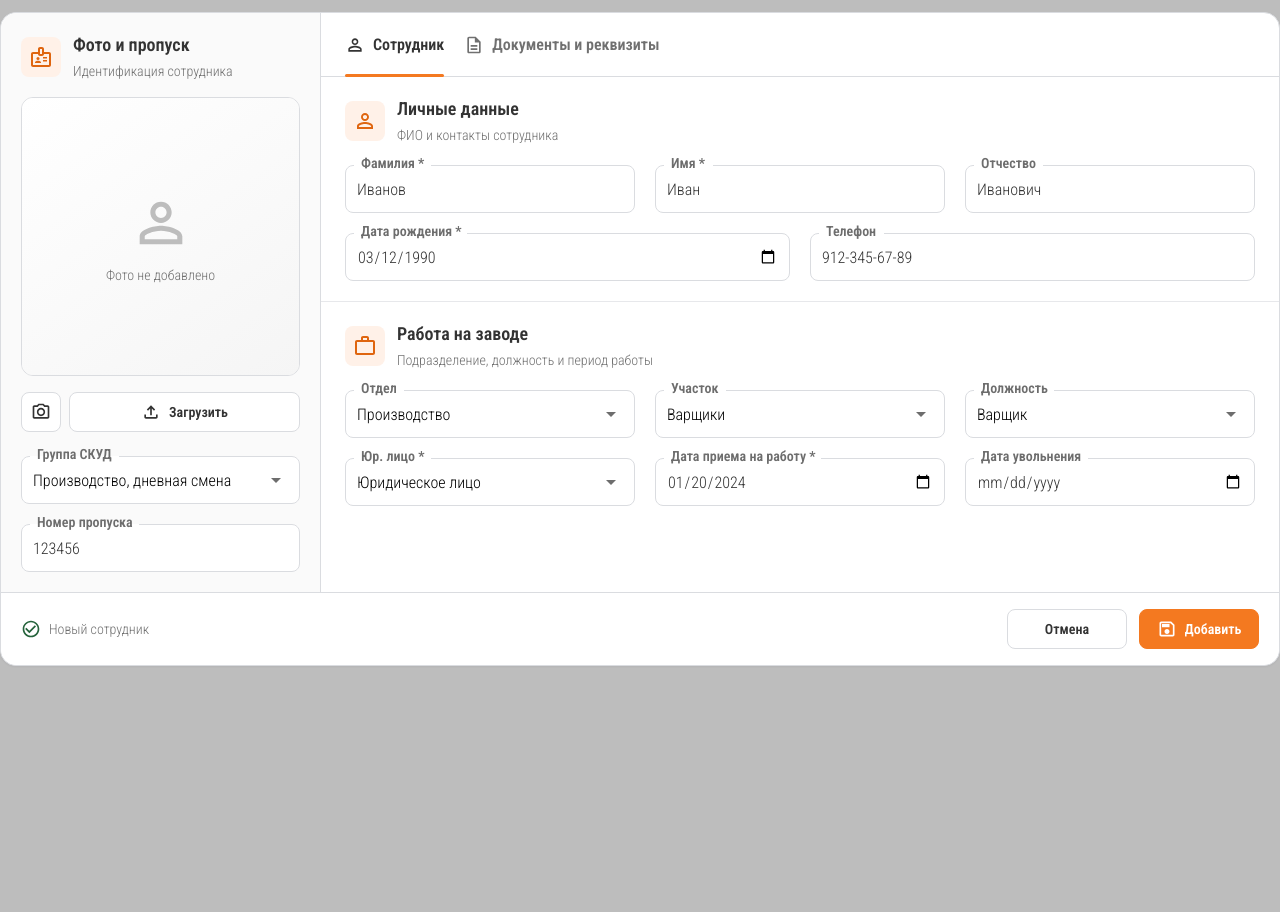
it: FactoryPersonEdit editor workflow › shows the bank choice when adding an employee
Click the tab "Документы и реквизиты" at x=562, y=44, box x1=464 y1=13 x2=660 y2=76
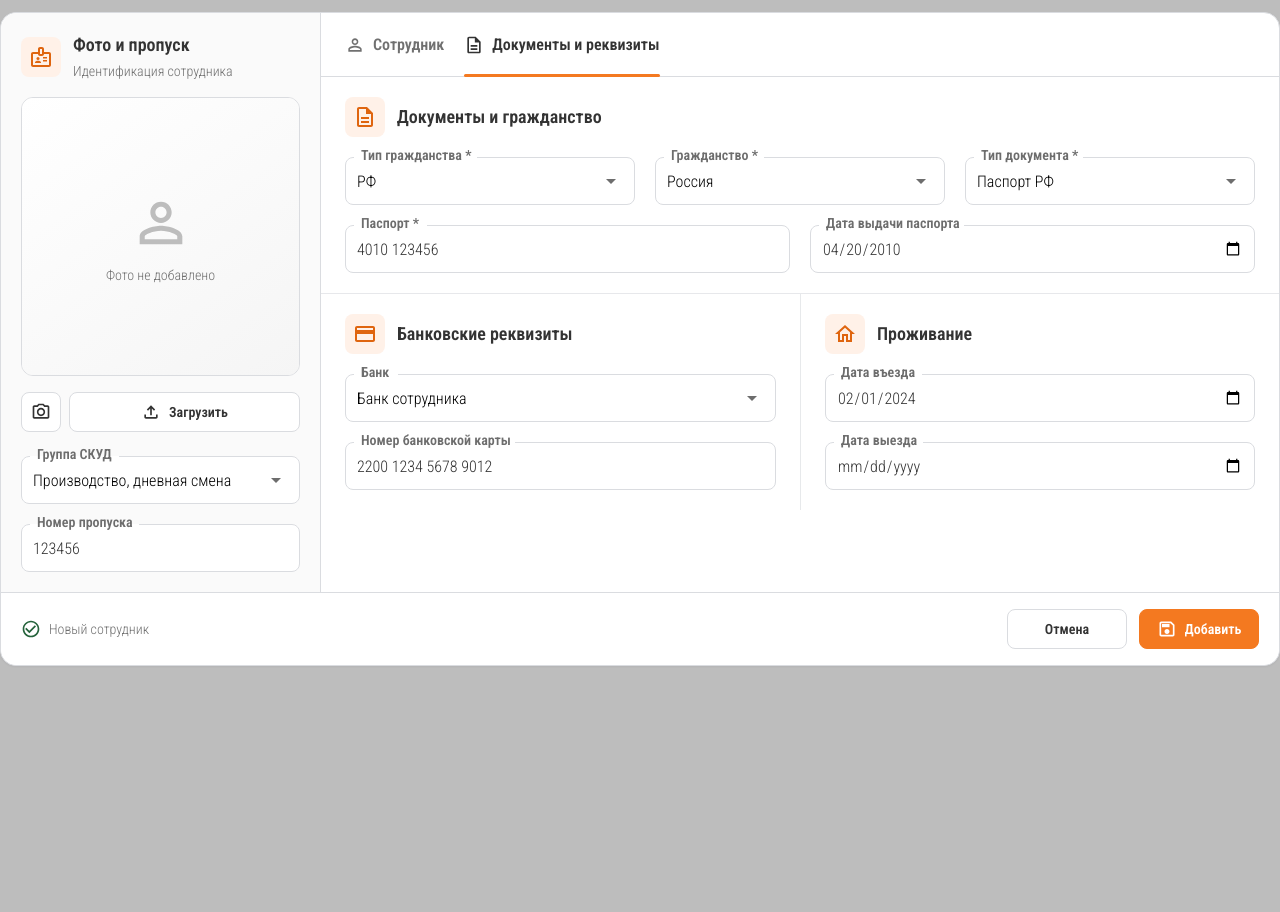
Now the label "Банк" is shown, box x1=361 y1=364 x2=389 y2=380
